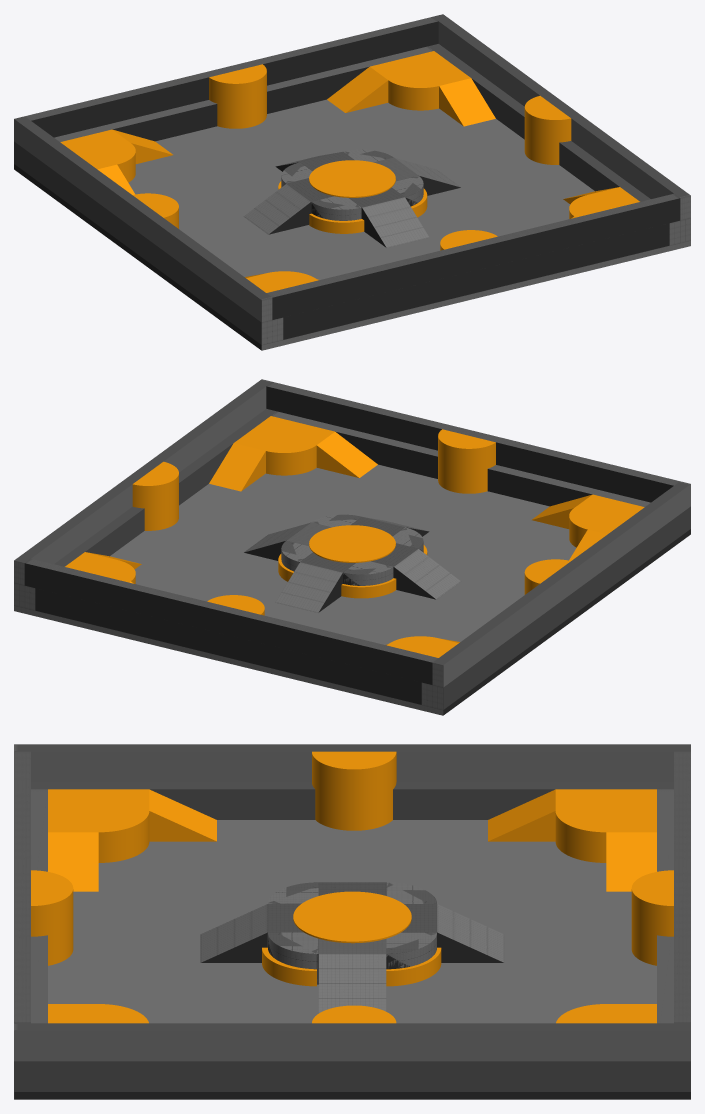
The model's file is Lvl_FirstPerson.glb.
3 renders of one model, top to bottom at view 1: azimuth 30°, elevation 25°; view 2: azimuth 150°, elevation 25°; view 3: azimuth 270°, elevation 25°, orthographic. The views are drawn at different scales.
Parts seen in each view (by area): view 1: Floor, SM_Cube19, SM_Cube18, SM_Cube5, SM_Cube20, SM_Cube17, SM_Cube3, SM_Cube4, SM_Cube2, SM_Cylinder, SM_Ramp12, SM_Ramp9 (+17 smaller); view 2: Floor, SM_Cube18, SM_Cube19, SM_Cube4, SM_Cube20, SM_Cube17, SM_Cube3, SM_Cube5, SM_Cube2, SM_Cylinder, SM_Ramp10, SM_Ramp9 (+18 smaller); view 3: Floor, SM_Cube17, SM_Cube20, SM_Cube2, SM_Cube3, SM_Cylinder, SM_Cube18, SM_Cube19, SM_Ramp11, SM_Cylinder6, SM_Cylinder7, SM_Ramp10 (+33 smaller).
Boxes of the visible parts, <box> form: Floor: <box>14,99,690,350</box>; SM_Cube19: <box>266,193,680,319</box>; SM_Cube18: <box>25,17,438,137</box>; SM_Cube5: <box>283,223,669,339</box>; SM_Cube20: <box>14,116,272,322</box>; SM_Cube17: <box>433,14,690,220</box>; SM_Cube3: <box>14,141,283,344</box>; SM_Cube4: <box>54,46,433,141</box>; SM_Cube2: <box>428,44,690,245</box>; SM_Cylinder: <box>309,160,395,197</box>; SM_Ramp12: <box>362,197,429,247</box>; SM_Ramp9: <box>243,184,311,234</box>; Floor: <box>14,464,690,715</box>; SM_Cube18: <box>24,558,438,684</box>; SM_Cube19: <box>266,382,679,502</box>; SM_Cube4: <box>35,588,421,704</box>; SM_Cube20: <box>432,481,690,687</box>; SM_Cube17: <box>14,379,271,585</box>; SM_Cube3: <box>421,506,690,709</box>; SM_Cube5: <box>271,411,650,506</box>; SM_Cube2: <box>14,409,276,610</box>; SM_Cylinder: <box>309,525,395,562</box>; SM_Ramp10: <box>275,562,342,612</box>; SM_Ramp9: <box>393,549,461,599</box>; Floor: <box>14,820,690,1099</box>; SM_Cube17: <box>14,1023,690,1061</box>; SM_Cube20: <box>14,744,690,782</box>; SM_Cube2: <box>14,1061,690,1091</box>; SM_Cube3: <box>31,782,673,819</box>; SM_Cylinder: <box>293,891,411,943</box>; SM_Cube18: <box>674,751,690,1023</box>; SM_Cube19: <box>14,751,30,1023</box>; SM_Ramp11: <box>318,954,386,1012</box>; SM_Cylinder6: <box>312,751,354,830</box>; SM_Cylinder7: <box>354,751,396,830</box>; SM_Ramp10: <box>437,904,504,962</box>.
Size of what is drawn, in the model's own units: 40 by 5 by 40.
22 materials, 21 textured.
